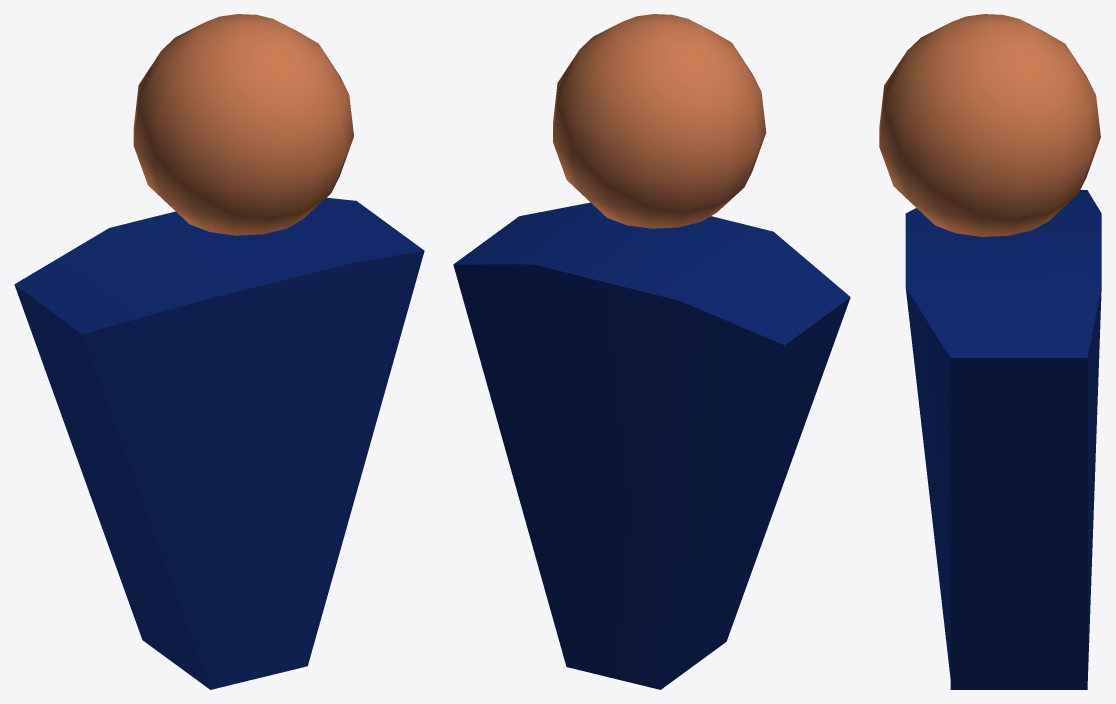
File: customerMale1.FBX
3 views of the same model, side by side, from view 1: azimuth 30°, elevation 25°; view 2: azimuth 150°, elevation 25°; view 3: azimuth 270°, elevation 25° (orthographic). The views are drawn at different scales.
Visible parts, largest first — view 1: Torso, Head; view 2: Torso, Head; view 3: Torso, Head.
Boxes of the visible parts, <box> form: Torso: <box>14,197,424,689</box>; Head: <box>133,14,353,235</box>; Torso: <box>453,202,850,689</box>; Head: <box>553,14,766,228</box>; Torso: <box>905,190,1101,689</box>; Head: <box>879,14,1100,236</box>.
Size of the model in its own units: 37.03 by 66.07 by 20.71.
